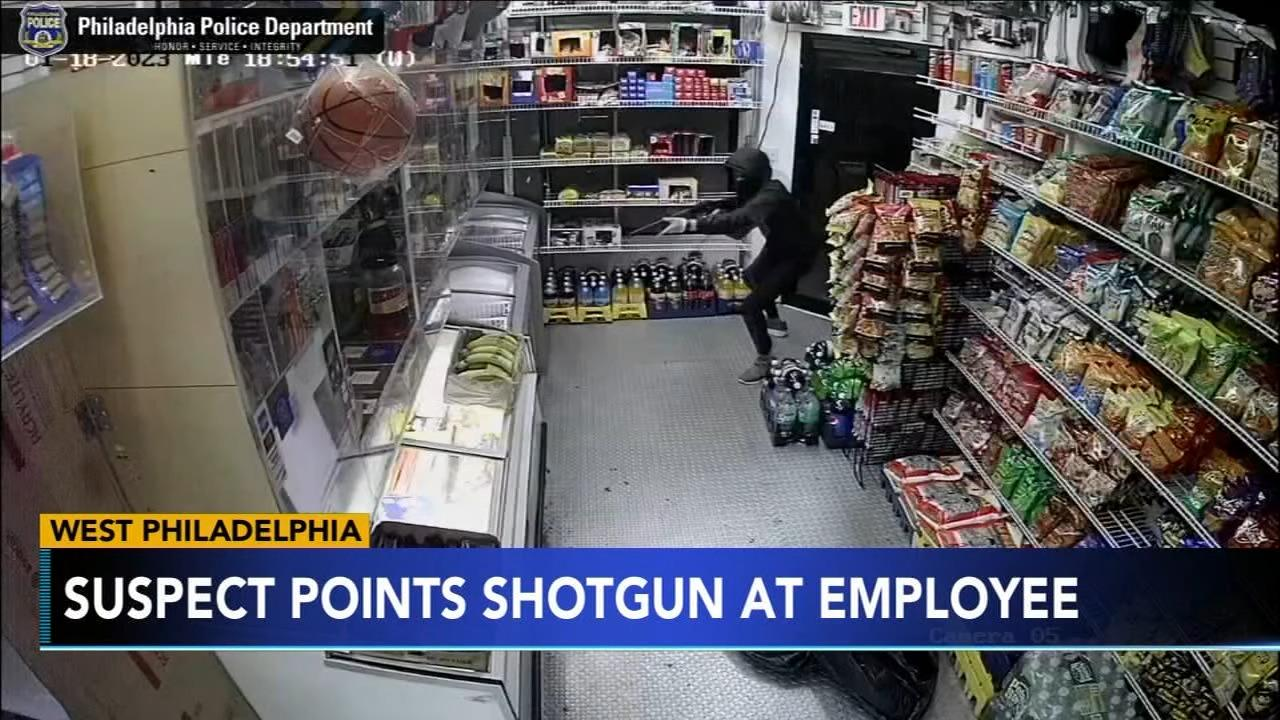shotgun: (626, 194, 721, 239)
